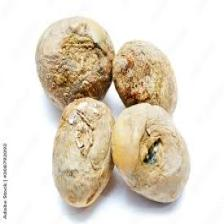Damaged potato: (107, 106, 195, 206), (52, 98, 118, 208), (32, 16, 114, 102), (111, 41, 181, 118)
